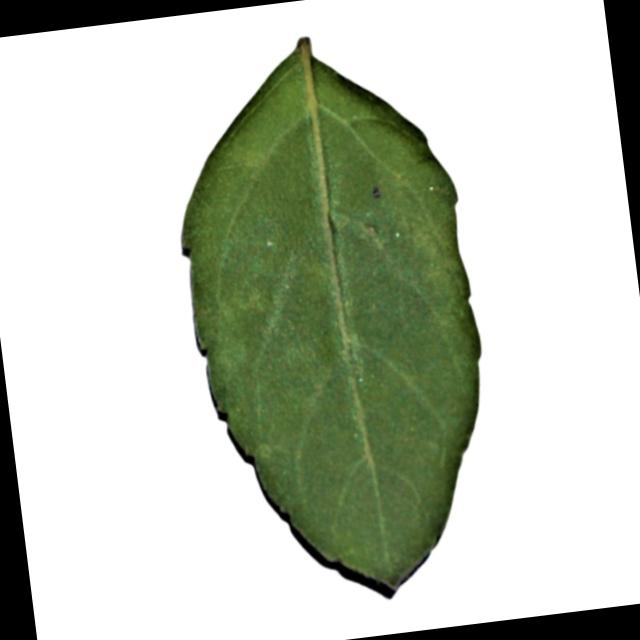tulsi: (154, 14, 513, 618)
